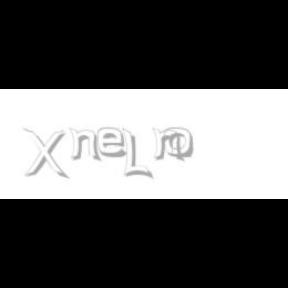L: (122, 128, 150, 180)
X: (22, 128, 66, 180)
e: (97, 128, 130, 158)
n: (68, 128, 102, 162), (151, 128, 185, 162)
o: (164, 128, 192, 158)
